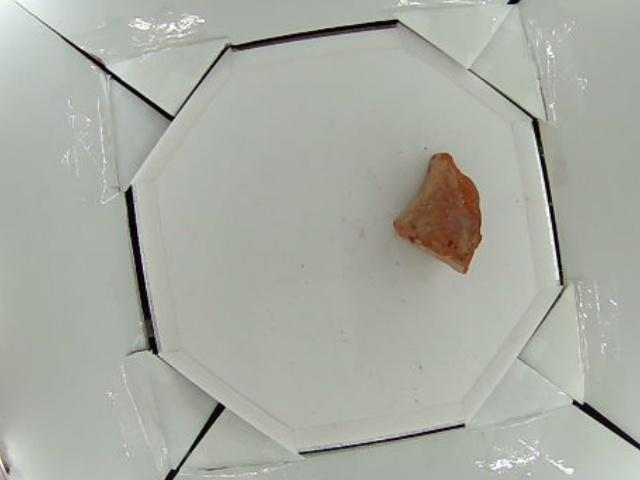Brisk: (392, 153, 483, 273)
